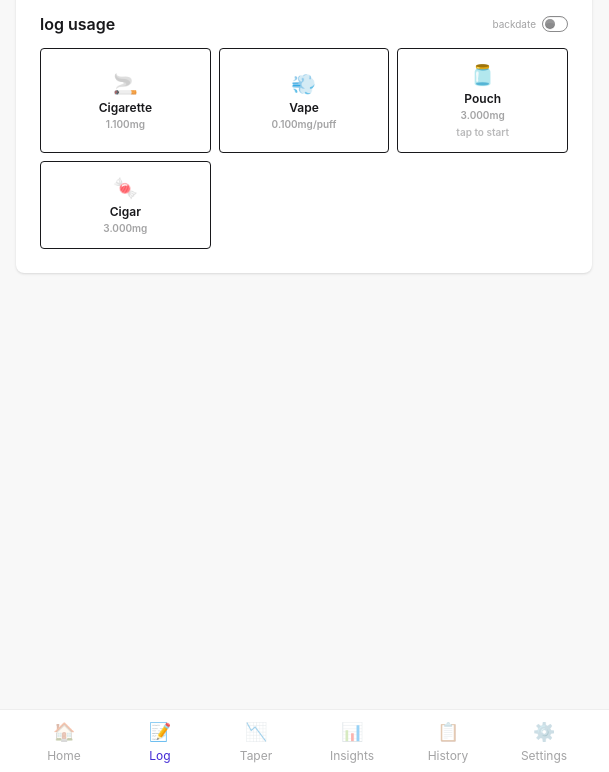
Test: vape puff flow › opens the puff count panel on click
Step 1. Click the button "💨 Vape 0.100mg/puff" → (304, 100), box [219,48,389,153]
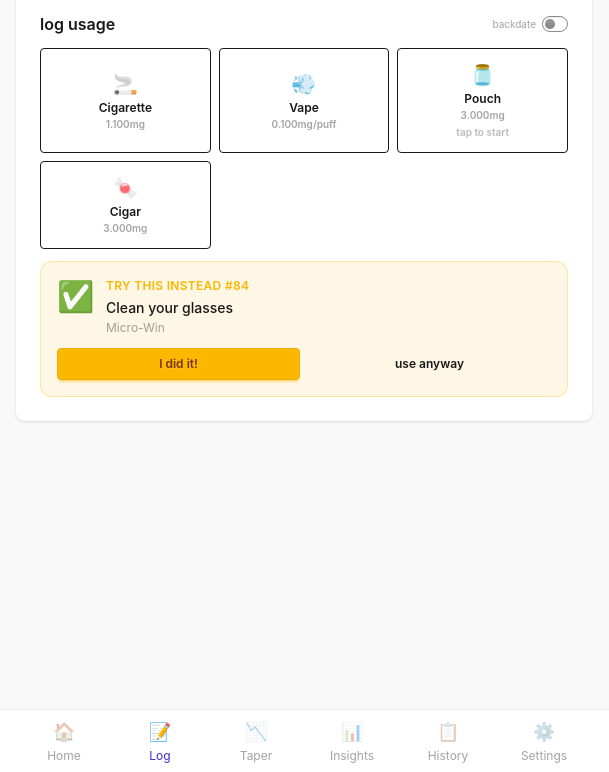
Step 2. Click the button "use anyway" → (430, 364), box [308,348,551,380]
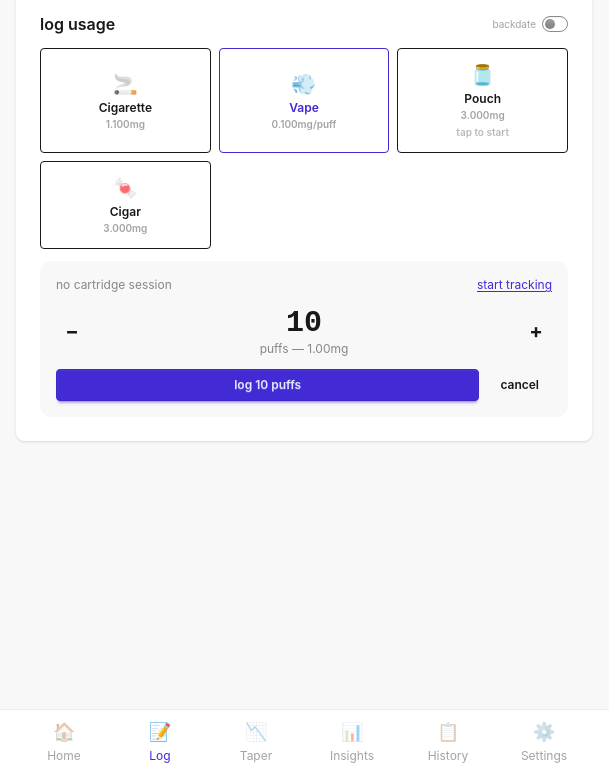
Expected: the text "puffs" is shown, [260,341,348,356]
